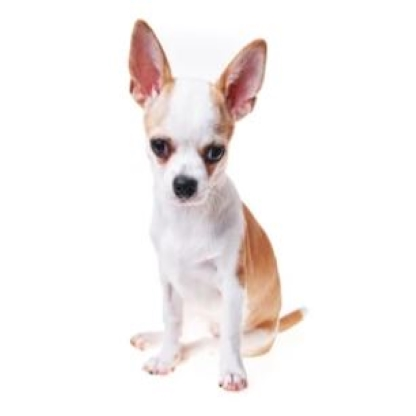chihuahua: (125, 16, 309, 393)
